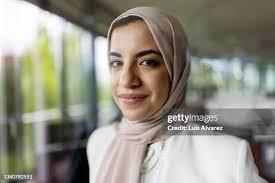scarf-kerchief: (95, 2, 209, 148)
